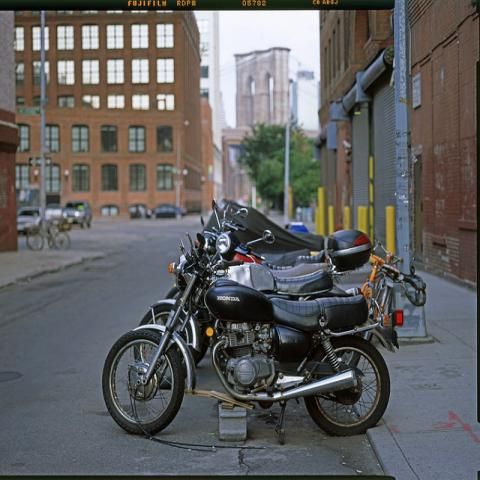car: (62, 201, 94, 229), (15, 206, 43, 234), (145, 205, 188, 221), (43, 203, 64, 226), (128, 202, 152, 220), (284, 220, 310, 234)
motorcycle: (98, 238, 392, 445), (143, 228, 369, 366), (204, 196, 329, 275), (269, 250, 325, 269)
